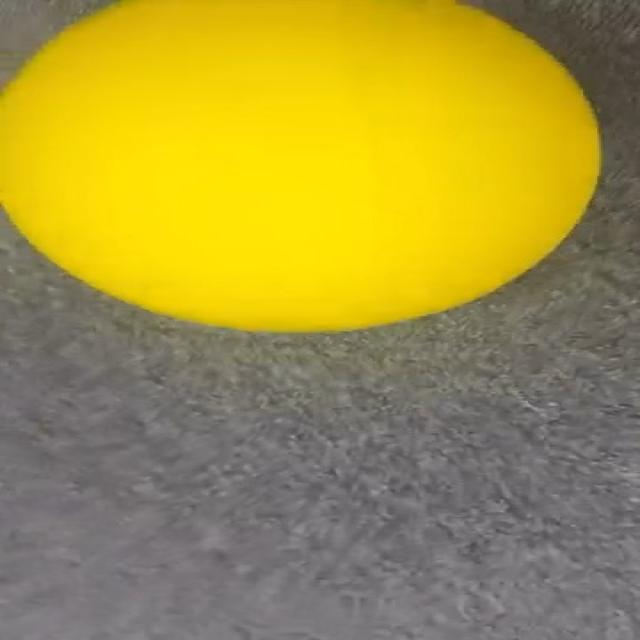Fuels: (0, 0, 597, 330)
